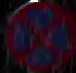No waiting: (5, 0, 75, 72)
